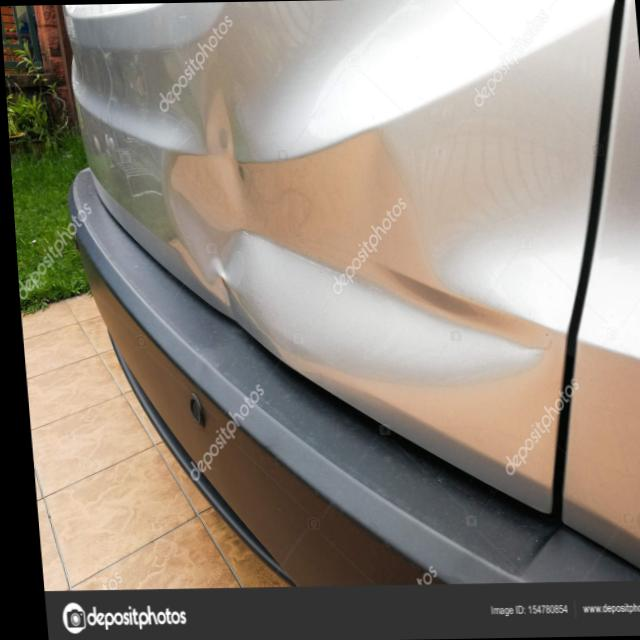Dent: (158, 99, 288, 303)
